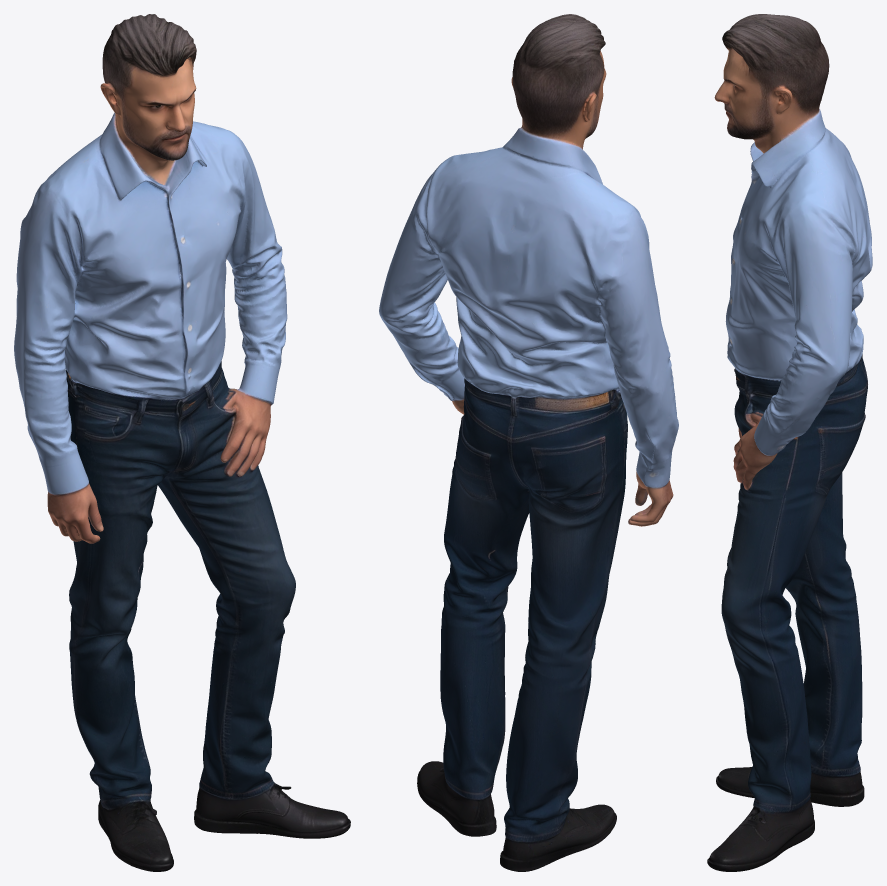
The model's file is syndicate_hacker_male.glb.
The picture shows the model from 3 angles, left to right: view 1: azimuth 30°, elevation 25°; view 2: azimuth 150°, elevation 25°; view 3: azimuth 270°, elevation 25°; orthographic projection. The views are drawn at different scales.
Parts seen in each view (by area): view 1: Object_5, Object_6, Object_7; view 2: Object_6, Object_5, Object_7; view 3: Object_6, Object_5, Object_7.
Part boxes in pixels (x1=…): Object_5: x1=16, y1=14, x2=350, y2=871; Object_6: x1=14, y1=19, x2=286, y2=855; Object_7: x1=23, y1=14, x2=287, y2=829; Object_6: x1=379, y1=36, x2=673, y2=871; Object_5: x1=408, y1=14, x2=675, y2=843; Object_7: x1=420, y1=22, x2=678, y2=823; Object_6: x1=764, y1=21, x2=872, y2=843; Object_5: x1=707, y1=14, x2=848, y2=871; Object_7: x1=739, y1=14, x2=807, y2=864.
Bounding box in the file's own units: 0.6942 × 1.9 × 0.3644.
Materials: 1 (1 with a texture image).
